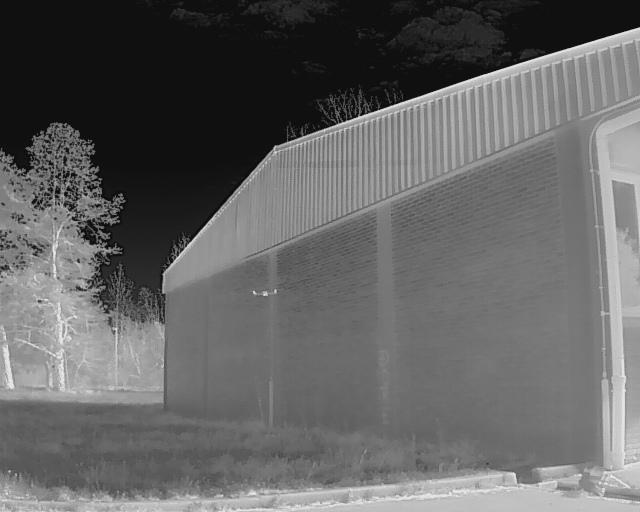drone: (246, 278, 285, 314)
